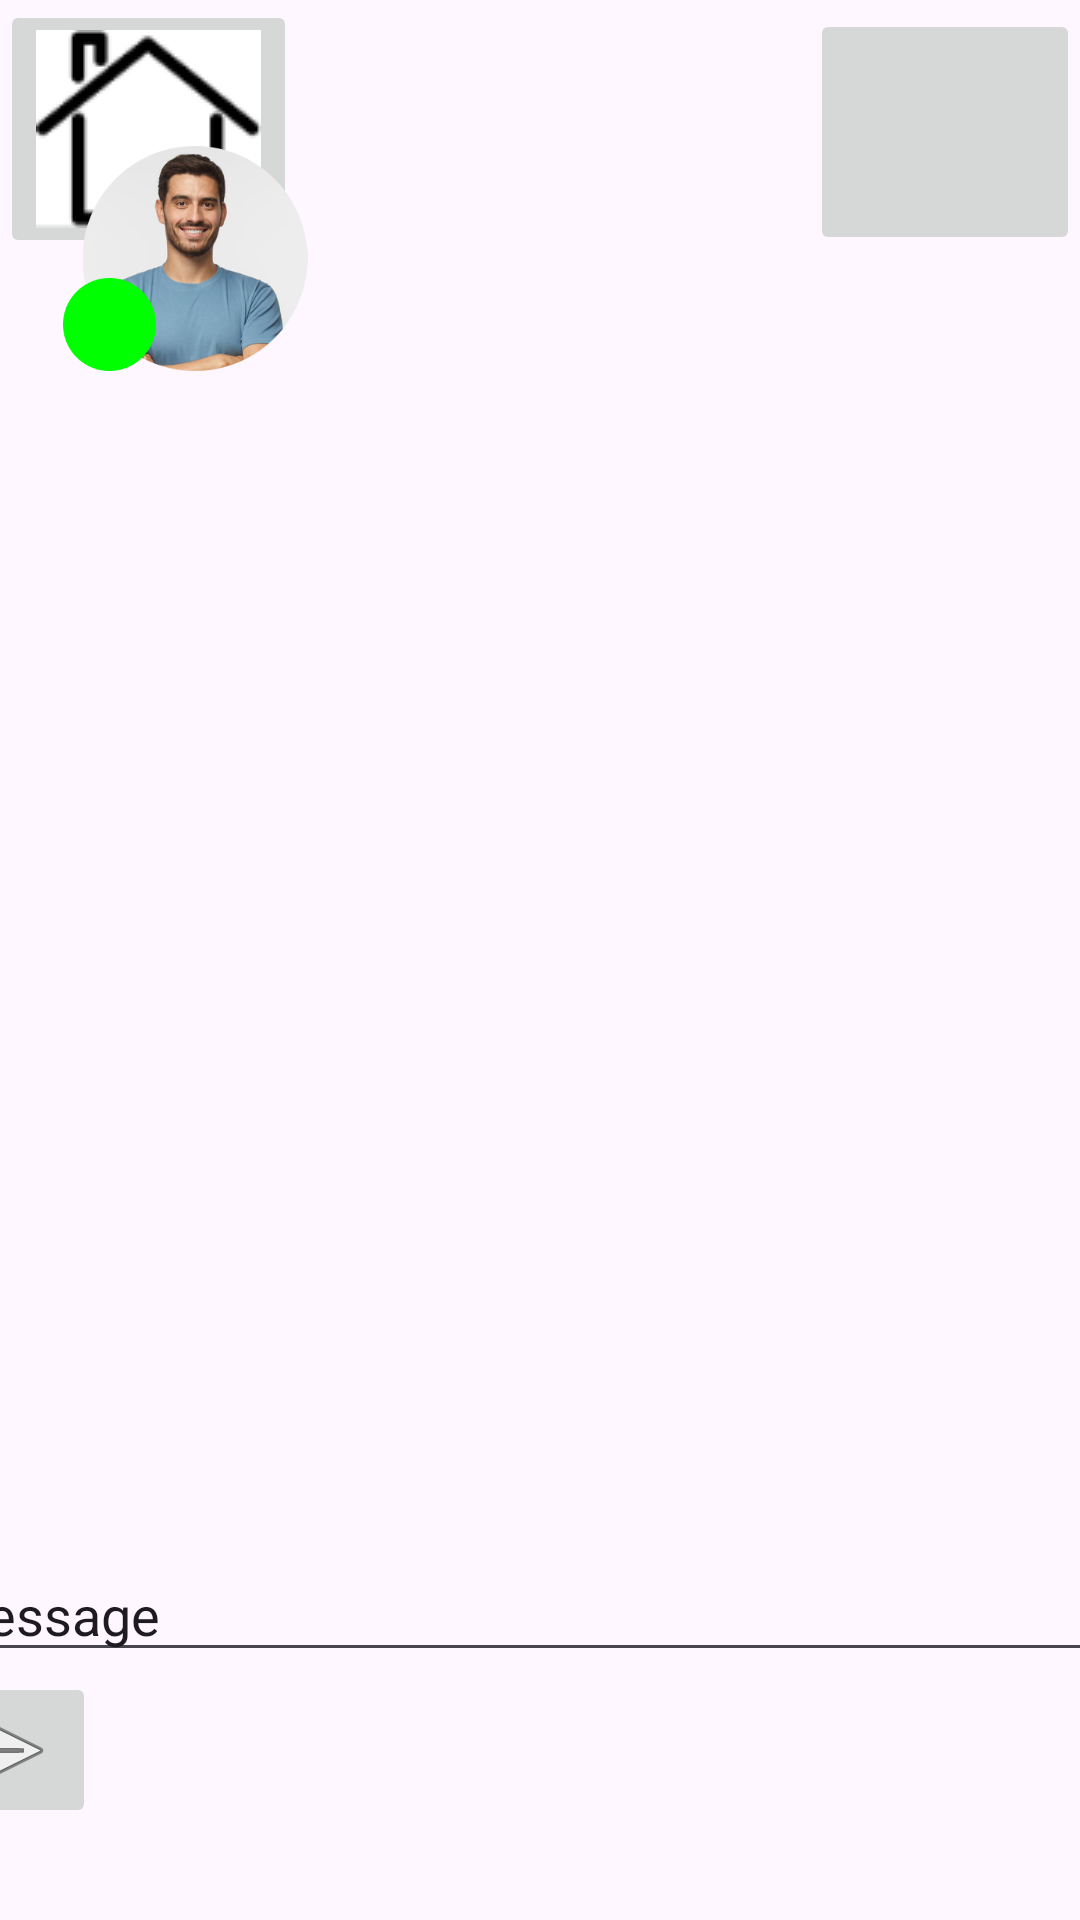

Locate icon controls on the screen. Image size 1080x1920, boxes as (x1, y1, x2, y2).
dude: (54, 146, 285, 371)
